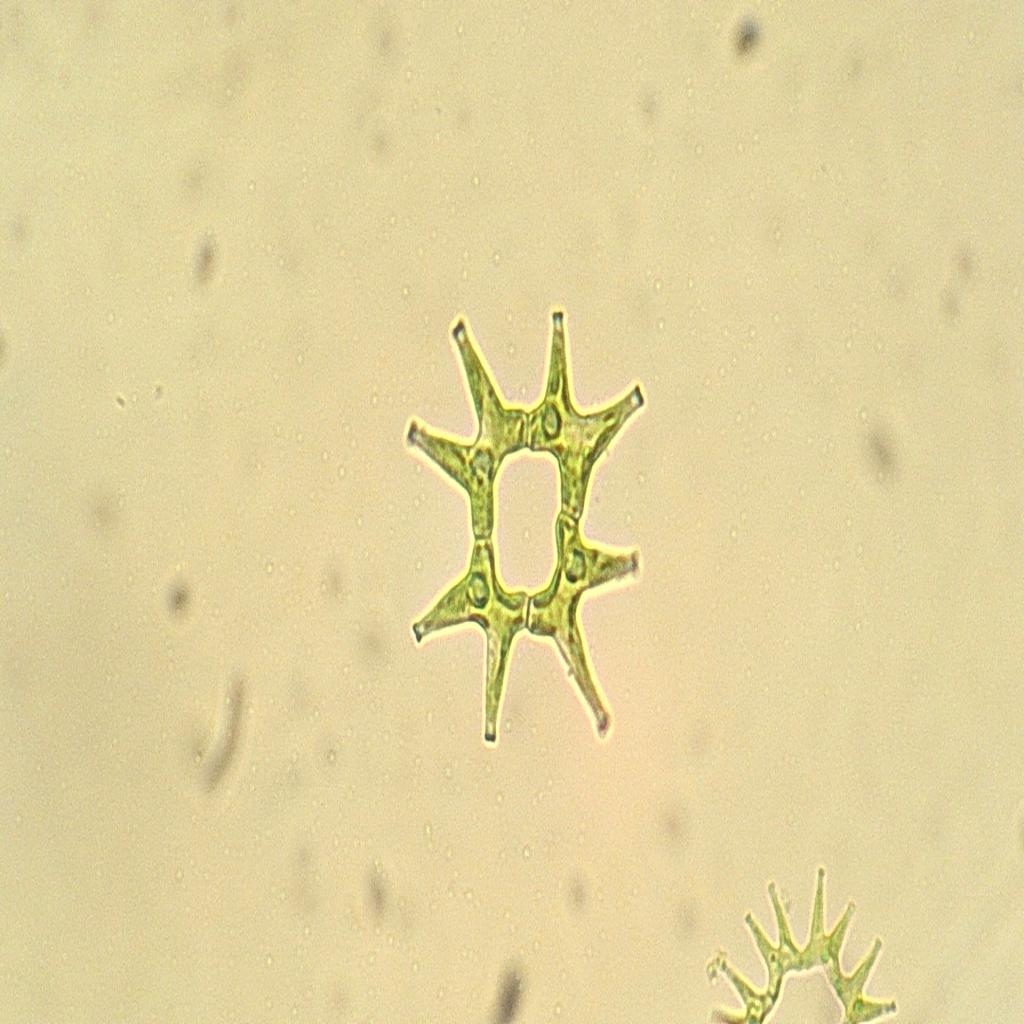Pediastrum_10: (377, 271, 686, 775)
